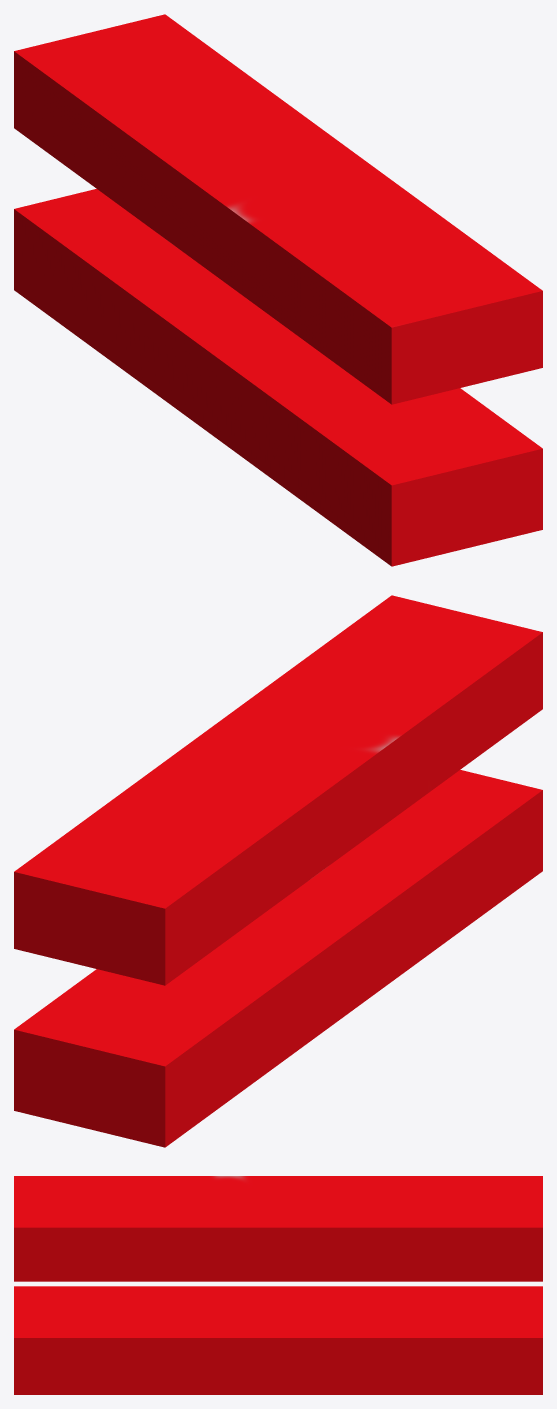
The model's file is Mouth.fbx.
The picture shows the model from 3 angles, top to bottom: view 1: azimuth 30°, elevation 25°; view 2: azimuth 150°, elevation 25°; view 3: azimuth 270°, elevation 25°; orthographic projection. The views are drawn at different scales.
Visible parts, largest first — view 1: Mouth; view 2: Mouth; view 3: Mouth.
Boxes of the visible parts, box(x1,y1,x2,y2) form: Mouth: box(14, 14, 542, 566); Mouth: box(14, 595, 542, 1147); Mouth: box(14, 1176, 542, 1394).
Bounding box in the file's own units: 200 × 302 × 866.
Materials: 1 (1 with a texture image).
